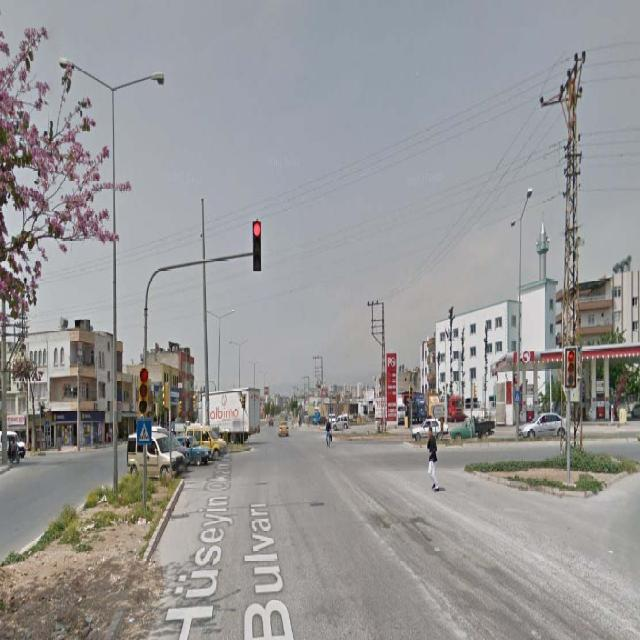kirmizi: (139, 370, 149, 416), (564, 349, 575, 389), (254, 221, 262, 270)
